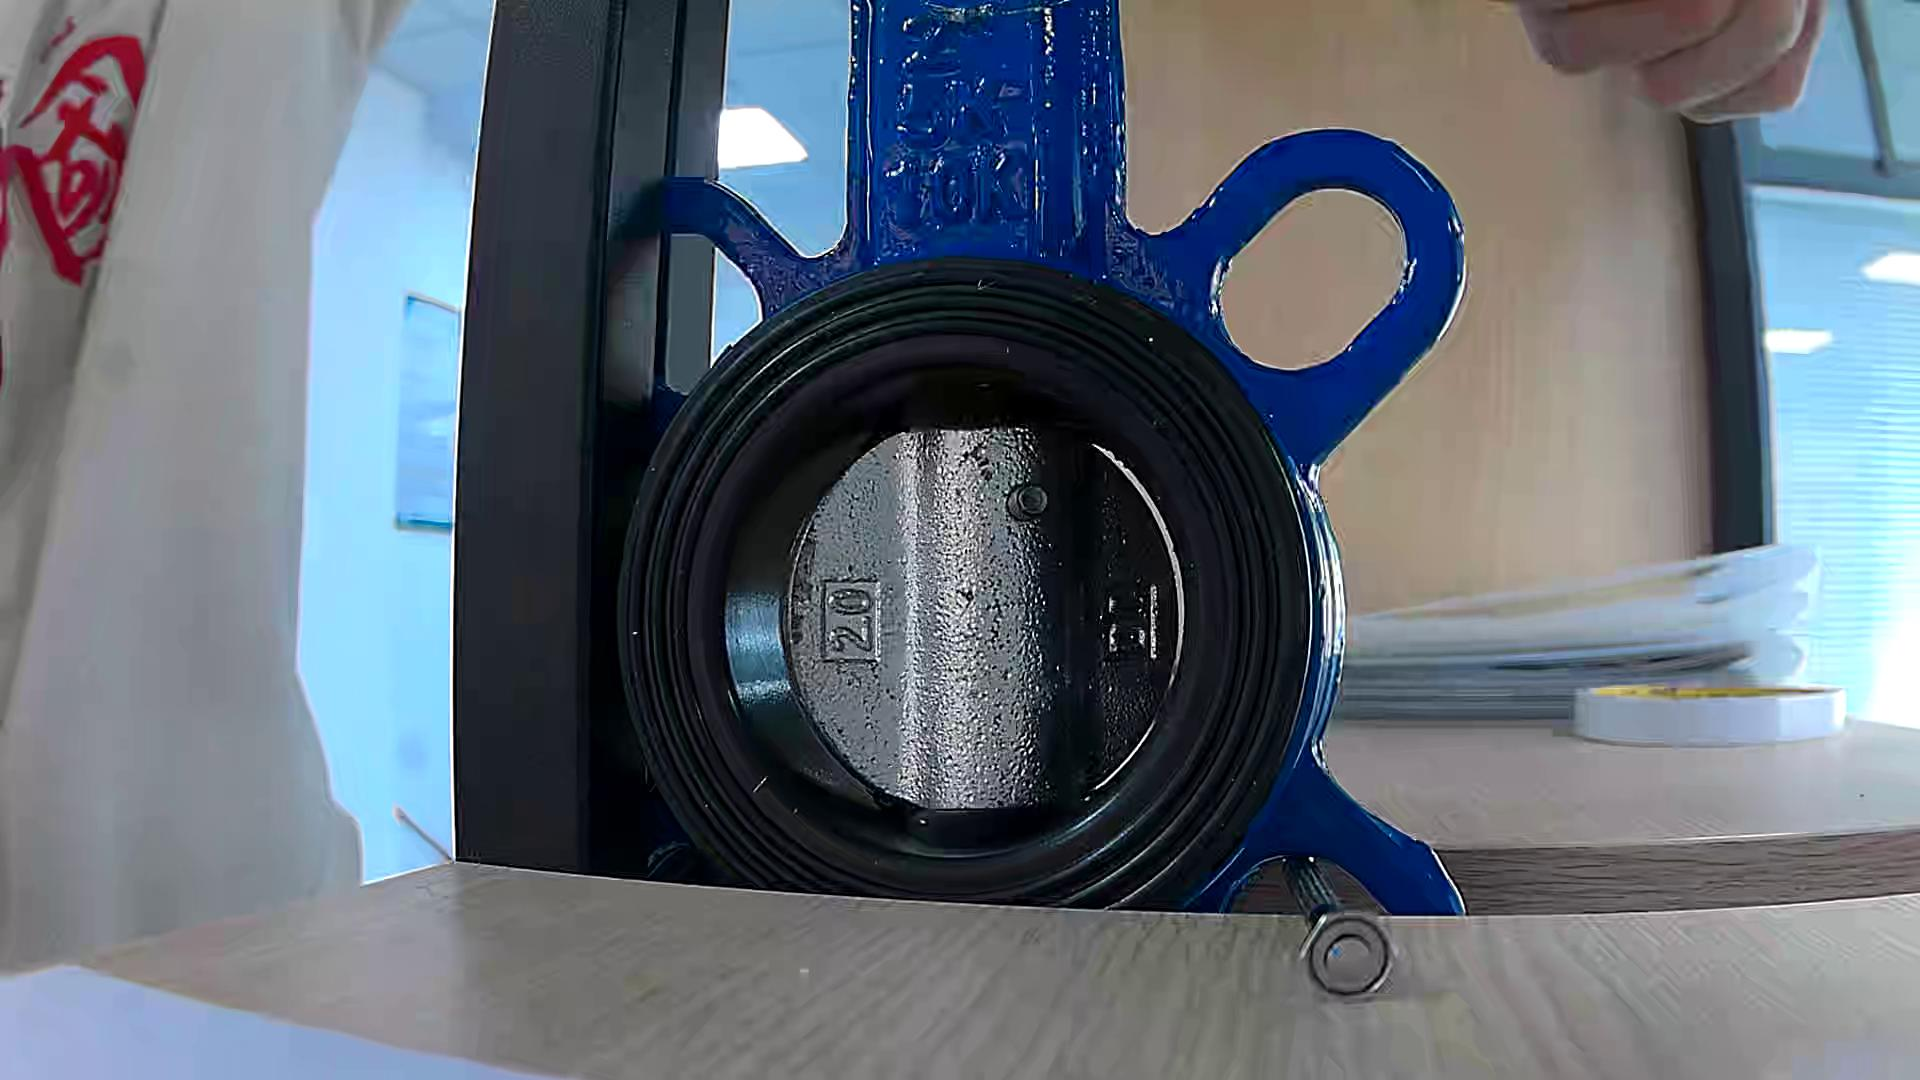valve: (787, 427, 1179, 810)
